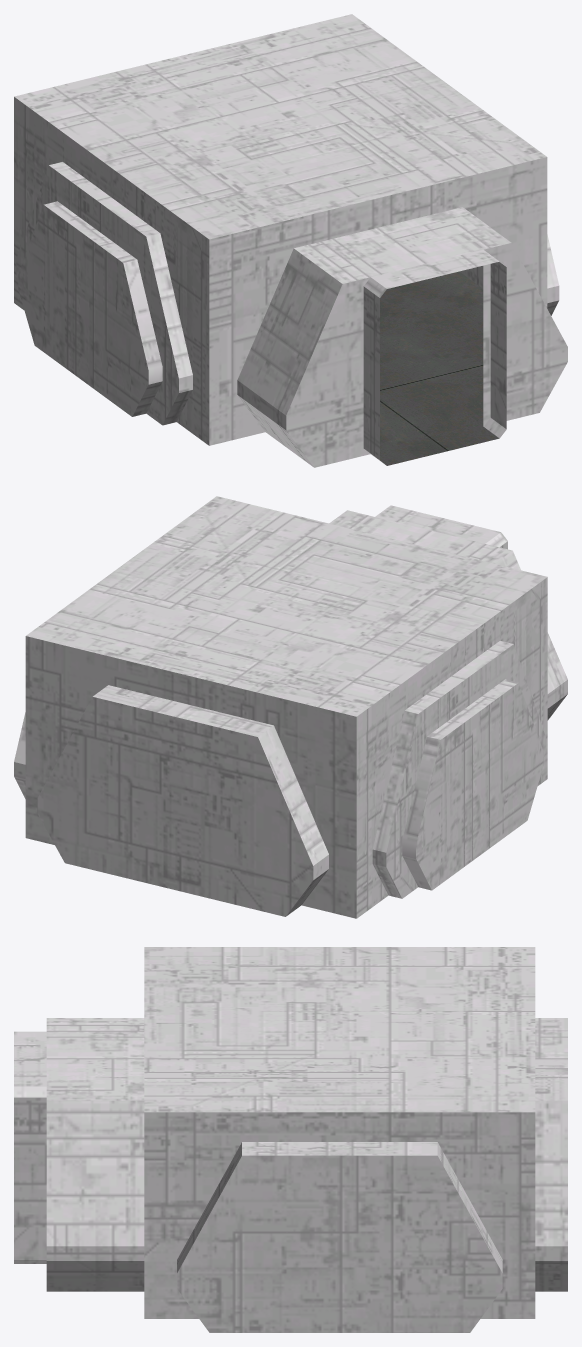
File: thm_spc_star_destroyer_s01_r33_room06_mesh_r33.fbx
3 renders of one model, top to bottom at view 1: azimuth 30°, elevation 25°; view 2: azimuth 150°, elevation 25°; view 3: azimuth 270°, elevation 25°, orthographic. The views are drawn at different scales.
Parts seen in each view (by area): view 1: mesh_node; view 2: mesh_node; view 3: mesh_node.
Boxes of the visible parts, x1=… form: mesh_node: x1=14, y1=14, x2=567, y2=467; mesh_node: x1=14, y1=496, x2=567, y2=918; mesh_node: x1=14, y1=947, x2=567, y2=1332.
Bounding box in the file's own units: 7 × 3.5 × 8.5.
Materials: 2 (2 with a texture image).
